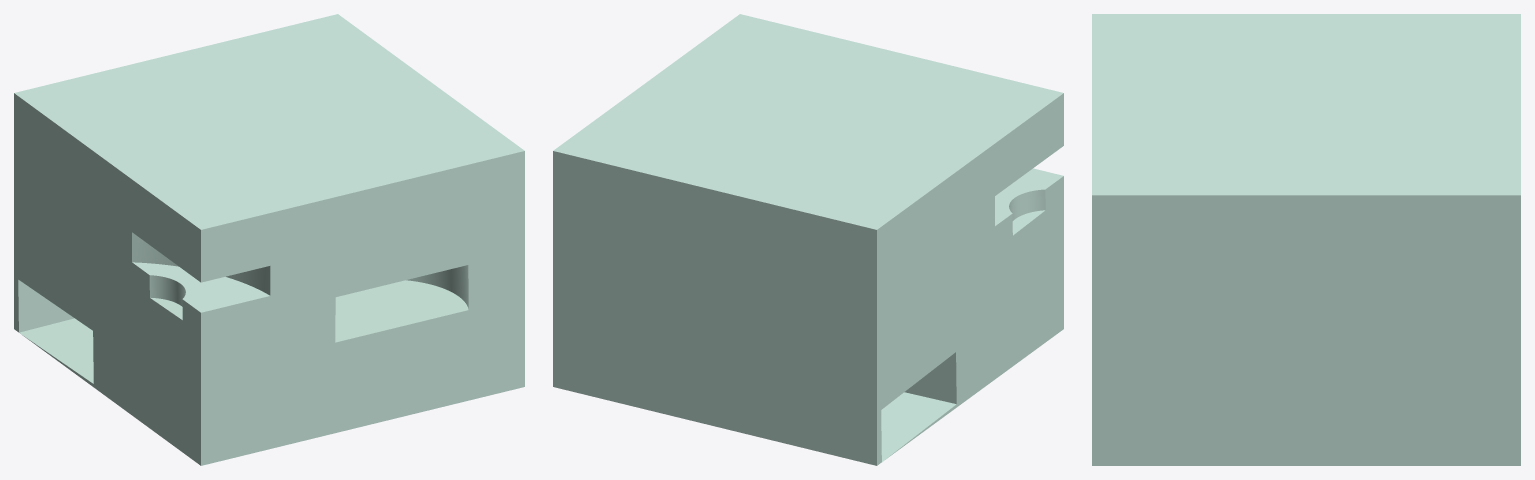
3 views of the same model, side by side, from view 1: azimuth 30°, elevation 25°; view 2: azimuth 150°, elevation 25°; view 3: azimuth 270°, elevation 25° (orthographic). The views are drawn at different scales.
Visible parts, largest first — view 1: Renderer Node; view 2: Renderer Node; view 3: Renderer Node.
Boxes of the visible parts, x1,y1,x2,y2 form: Renderer Node: (14, 14, 524, 465); Renderer Node: (553, 14, 1063, 465); Renderer Node: (1092, 14, 1520, 465).
Size of the model in its own units: 1.05 by 0.7344 by 1.05.
